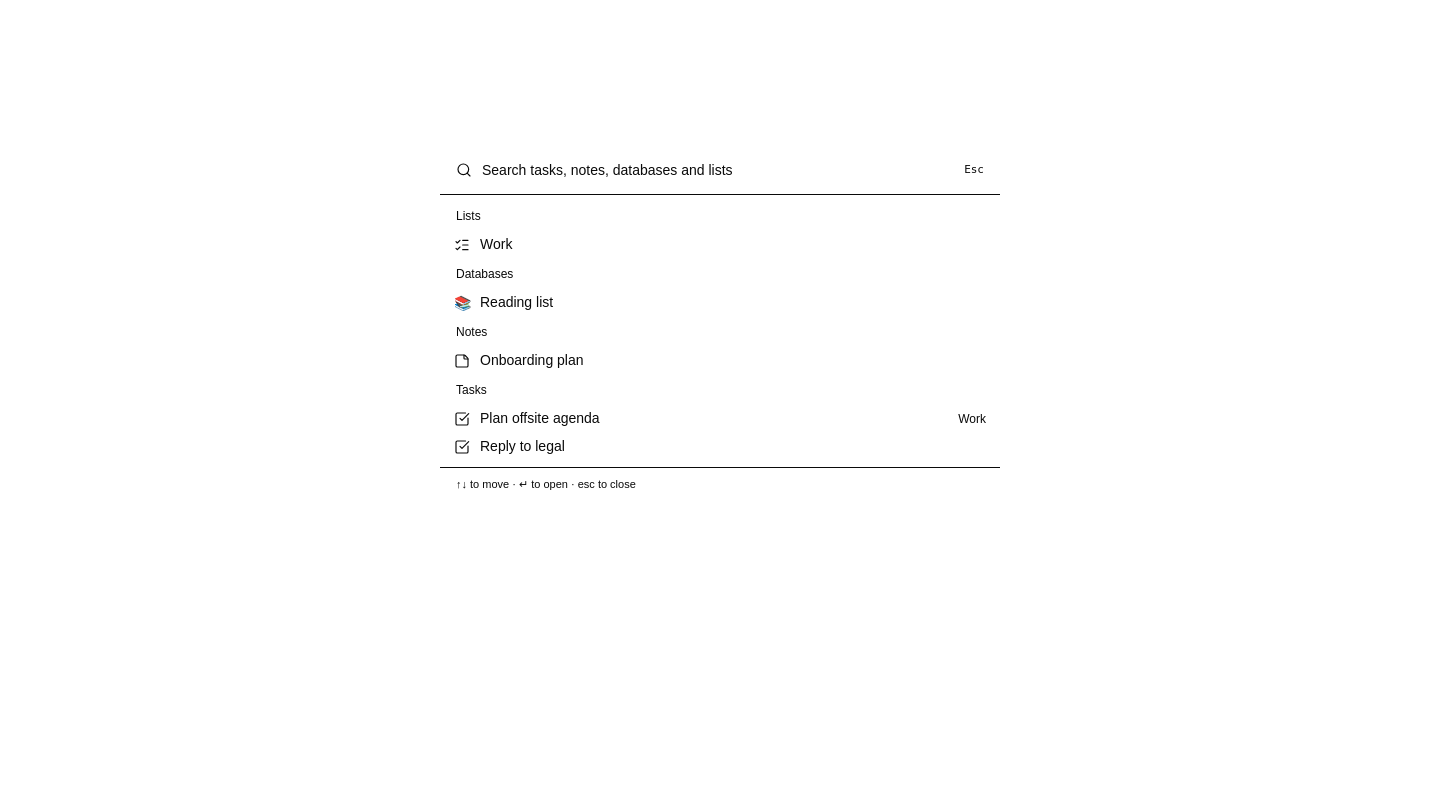
Scenario: CommandPalette › says so when nothing matches
In the dropdown labelled "Search": coordinates (718, 170) [482,146,954,194], type "zzz"
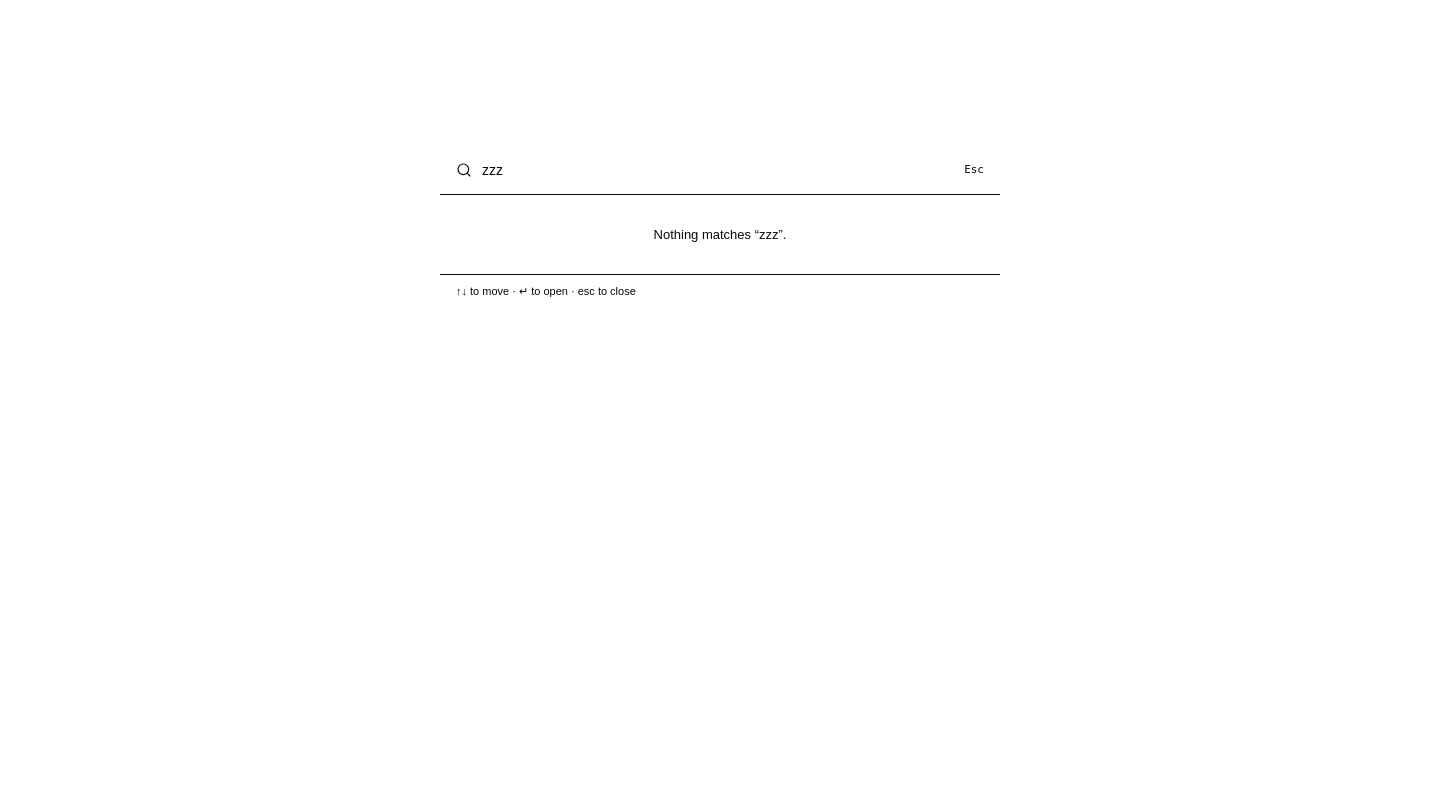
Now the text "Nothing matches “zzz”." is shown, box [654,227,786,242]
